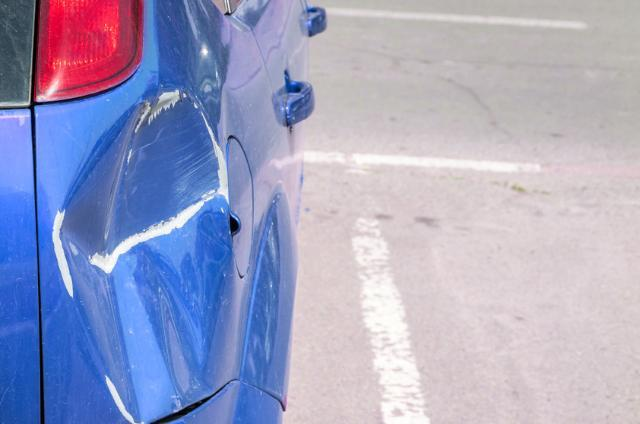Fender: (35, 59, 241, 424)
